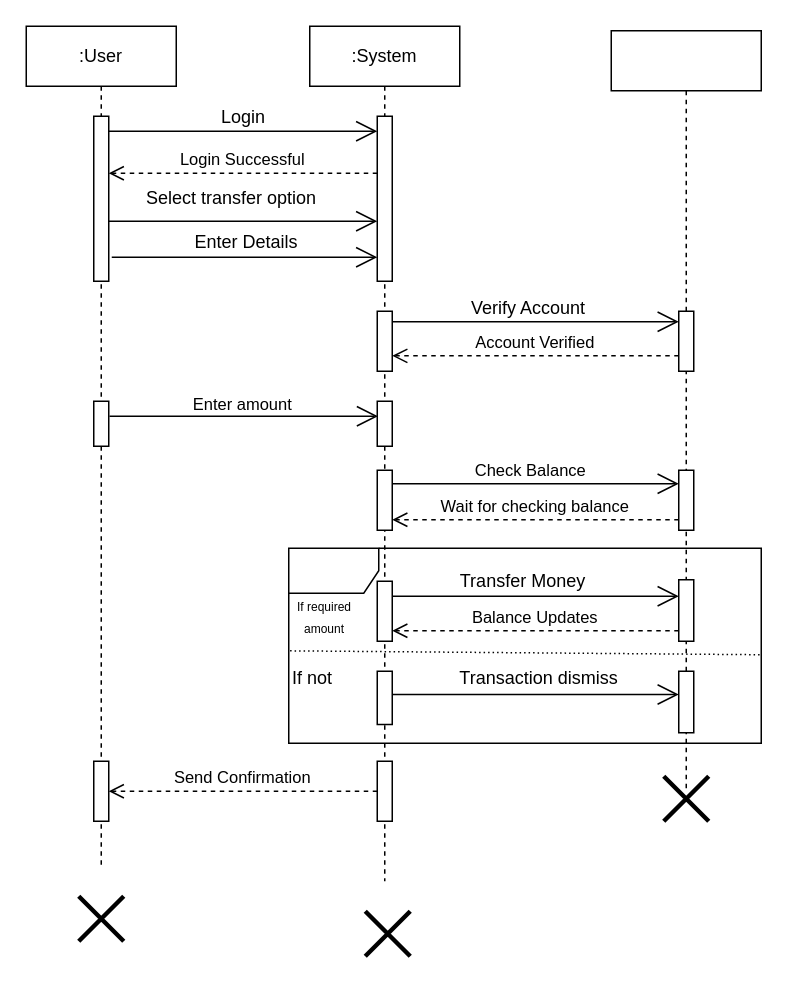
Image size: 791x984. Some labels were removed from this diagram. The box of each missing label's shape, as (x1, y1, x2, y2) in pixels:
:Account: (610, 29, 761, 791)
alt: (287, 547, 761, 743)
